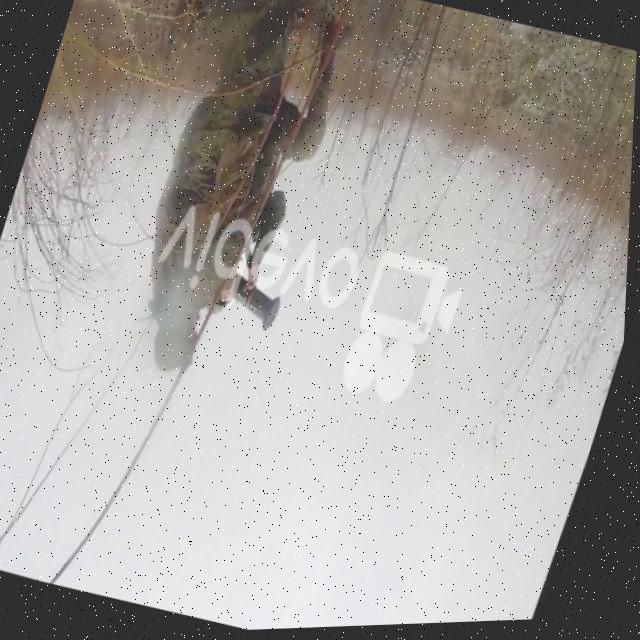rocket: (222, 260, 295, 336)
